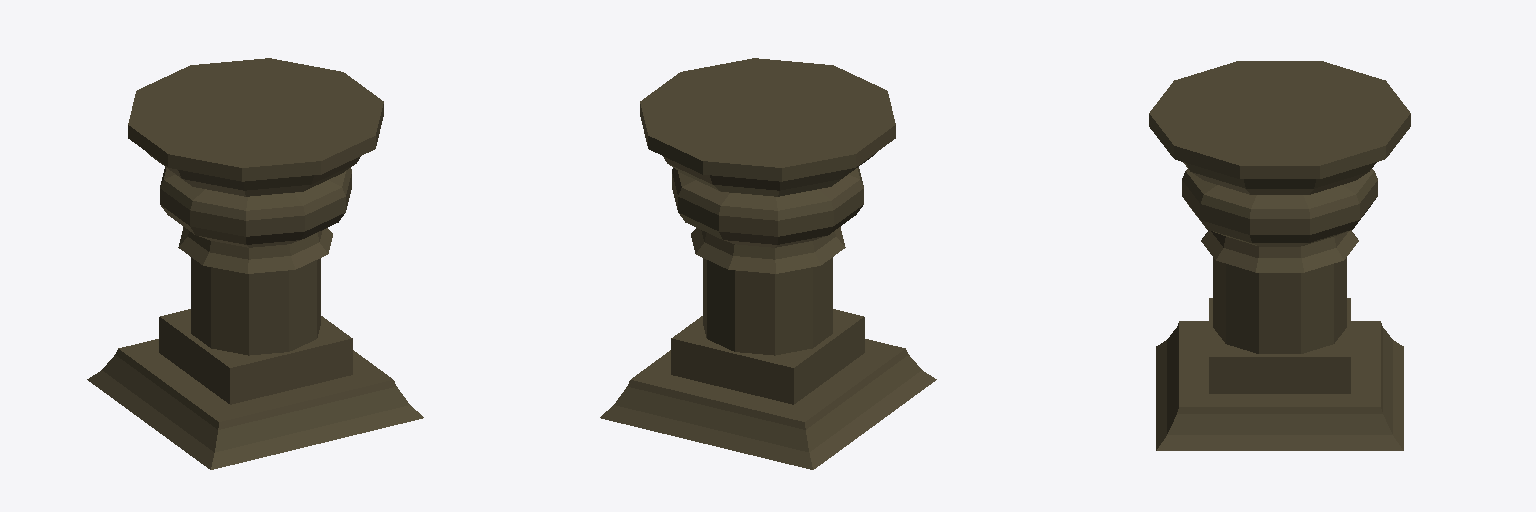
The model's file is pillar.obj.
3 renders of one model, left to right at view 1: azimuth 30°, elevation 25°; view 2: azimuth 150°, elevation 25°; view 3: azimuth 270°, elevation 25°, orthographic.
Visible parts, largest first — view 1: Column_Round1_Cylinder.001; view 2: Column_Round1_Cylinder.001; view 3: Column_Round1_Cylinder.001.
Part boxes in pixels (x1,y1,x2,y2): Column_Round1_Cylinder.001: (87,58,423,469); Column_Round1_Cylinder.001: (600,58,936,469); Column_Round1_Cylinder.001: (1149,61,1410,450).
Size of the model in its own units: 1.4 by 1.77 by 1.47.